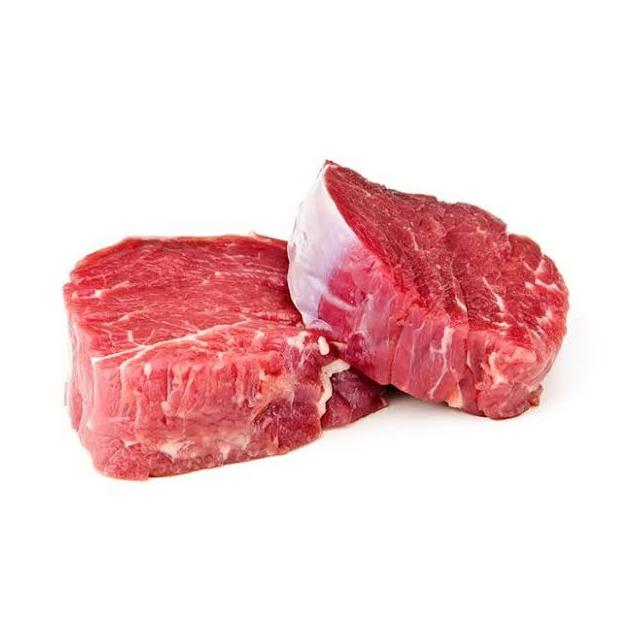beef: (240, 97, 569, 458), (23, 188, 382, 505)
